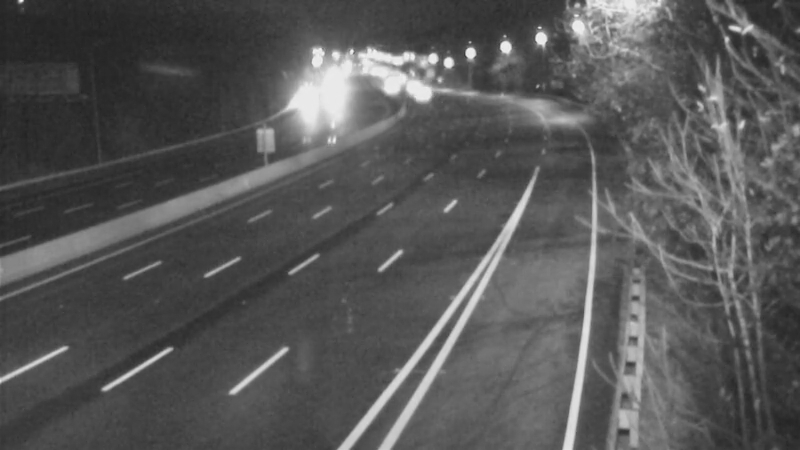vehicle: (387, 59, 437, 109), (363, 62, 413, 112), (393, 65, 443, 115)
